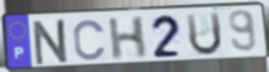2: (150, 12, 185, 61)
9: (228, 8, 259, 57)
C: (72, 18, 108, 62)
H: (106, 15, 148, 62)
N: (32, 17, 71, 67)
U: (184, 10, 224, 58)
